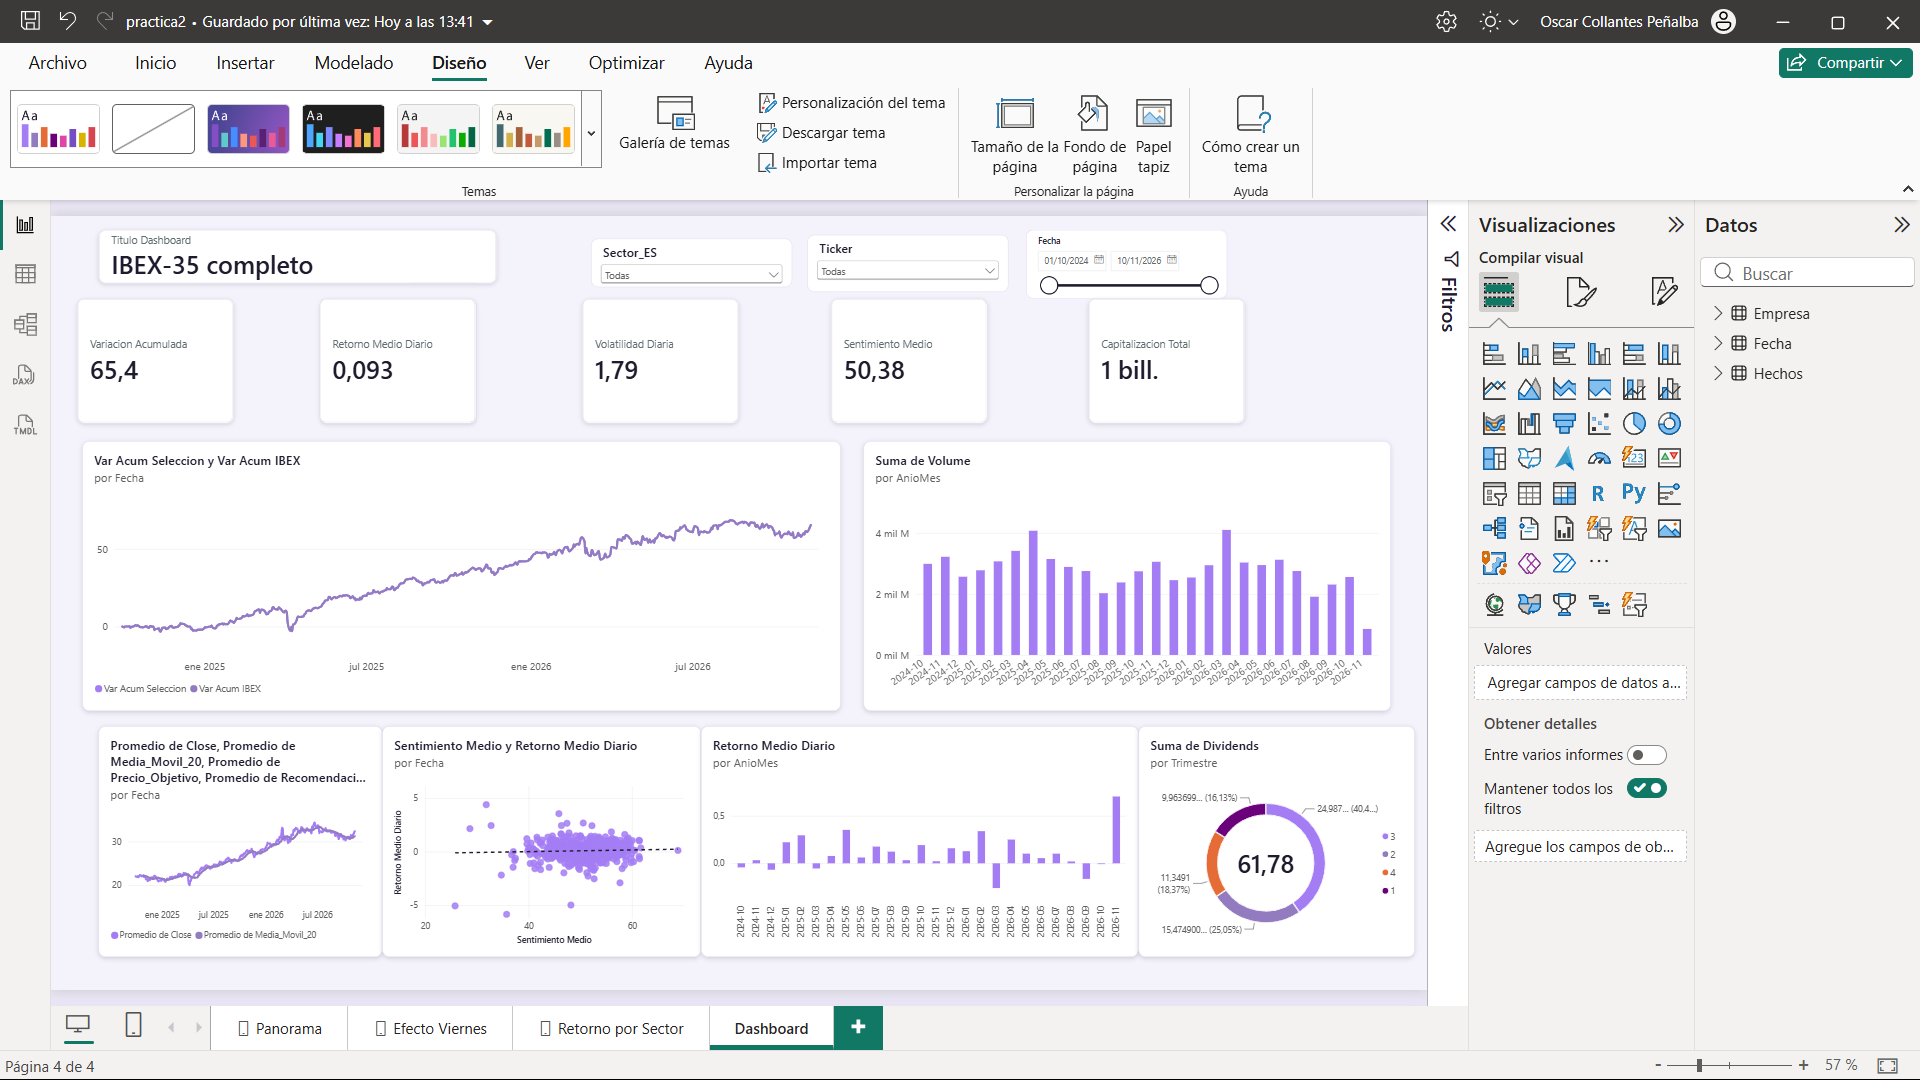

The dashboard page shown, as its layout file describes it:
{"tool":"powerbi","page":{"name":"Dashboard","canvas":[1920,1080],"ordinal":3},"visuals":[{"type":"slicer","fields":{"Values":["Empresa.Sector_ES"]},"box":[753.5,31.4,280.8,68],"z":0},{"type":"slicer","fields":{"Values":["Empresa.Ticker"]},"box":[1055.2,26.2,280.8,80.2],"z":1000},{"type":"slicer","fields":{"Values":["Fecha.Fecha"]},"box":[1360.5,19.2,280.8,95.9],"z":2000},{"type":"cardVisual","fields":{"Data":["Hechos.Variacion Acumulada"]},"box":[36.6,115.1,218,174.4],"z":3000},{"type":"cardVisual","fields":{"Data":["Hechos.Retorno Medio Diario"]},"box":[375,115.1,218,174.4],"z":4000},{"type":"cardVisual","fields":{"Data":["Hechos.Volatilidad Diaria"]},"box":[741.3,115.1,218,174.4],"z":5000},{"type":"cardVisual","fields":{"Data":["Hechos.Sentimiento Medio"]},"box":[1088.4,115.1,218,174.4],"z":6000},{"type":"cardVisual","fields":{"Data":["Hechos.Capitalizacion Total"]},"box":[1447.7,115.1,218,174.4],"z":7000},{"type":"lineChart","fields":{"Category":["Fecha.Fecha"],"Y":["Hechos.Var Acum Seleccion","Hechos.Var Acum IBEX"]},"box":[43.6,314,1058.7,376.7],"z":8000},{"type":"clusteredColumnChart","fields":{"Category":["Fecha.AnioMes"],"Y":["Sum(Hechos.Volume)"]},"box":[1133.7,314,736,376.7],"z":9000},{"type":"lineChart","fields":{"Category":["Fecha.Fecha"],"Y":["Avg(Hechos.Close)","Avg(Hechos.Media_Movil_20)"]},"box":[66.3,711.6,395.9,322.7],"z":10000},{"type":"scatterChart","fields":{"Category":["Fecha.Fecha"],"X":["Hechos.Sentimiento Medio"],"Y":["Hechos.Retorno Medio Diario"]},"box":[462.2,711.6,444.8,322.7],"z":11000},{"type":"clusteredColumnChart","fields":{"Category":["Fecha.AnioMes"],"Y":["Hechos.Retorno Medio Diario"]},"box":[907,711.6,610.5,322.7],"z":12000},{"type":"donutChart","fields":{"Category":["Fecha.Trimestre"],"Y":["Sum(Hechos.Dividends)"]},"box":[1517.4,711.6,385.5,322.7],"z":13000},{"type":"cardVisual","fields":{"Data":["Hechos.Titulo Dashboard"]},"box":[66.3,19.2,556.4,75],"z":13001}]}

Visuals, with their boxes on the page's 1920x1080 design canvas (x1, y1, x2, y2). These are canvas units, not pixel positions in the 1920x1080 screenshot, which may show the page scaled, cropped or inside an application window:
slicer - Empresa.Sector_ES: (left=754, top=31, right=1034, bottom=99)
slicer - Empresa.Ticker: (left=1055, top=26, right=1336, bottom=106)
slicer - Fecha.Fecha: (left=1360, top=19, right=1641, bottom=115)
cardVisual - Hechos.Variacion Acumulada: (left=37, top=115, right=255, bottom=290)
cardVisual - Hechos.Retorno Medio Diario: (left=375, top=115, right=593, bottom=290)
cardVisual - Hechos.Volatilidad Diaria: (left=741, top=115, right=959, bottom=290)
cardVisual - Hechos.Sentimiento Medio: (left=1088, top=115, right=1306, bottom=290)
cardVisual - Hechos.Capitalizacion Total: (left=1448, top=115, right=1666, bottom=290)
lineChart - Fecha.Fecha x Hechos.Var Acum Seleccion: (left=44, top=314, right=1102, bottom=691)
clusteredColumnChart - Fecha.AnioMes x Sum(Hechos.Volume): (left=1134, top=314, right=1870, bottom=691)
lineChart - Fecha.Fecha x Avg(Hechos.Close): (left=66, top=712, right=462, bottom=1034)
scatterChart - Fecha.Fecha x Hechos.Sentimiento Medio: (left=462, top=712, right=907, bottom=1034)
clusteredColumnChart - Fecha.AnioMes x Hechos.Retorno Medio Diario: (left=907, top=712, right=1518, bottom=1034)
donutChart - Fecha.Trimestre x Sum(Hechos.Dividends): (left=1517, top=712, right=1903, bottom=1034)
cardVisual - Hechos.Titulo Dashboard: (left=66, top=19, right=623, bottom=94)
